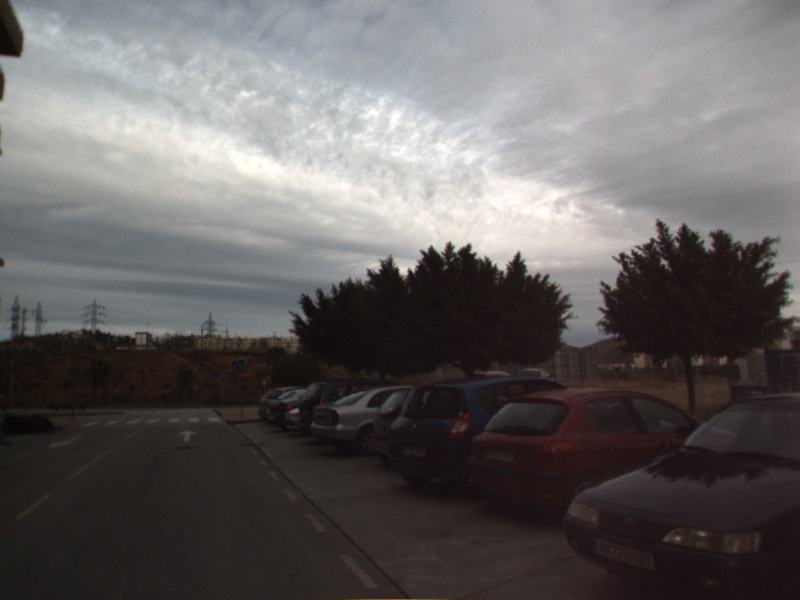STRAIGHT: (176, 428, 199, 443)
